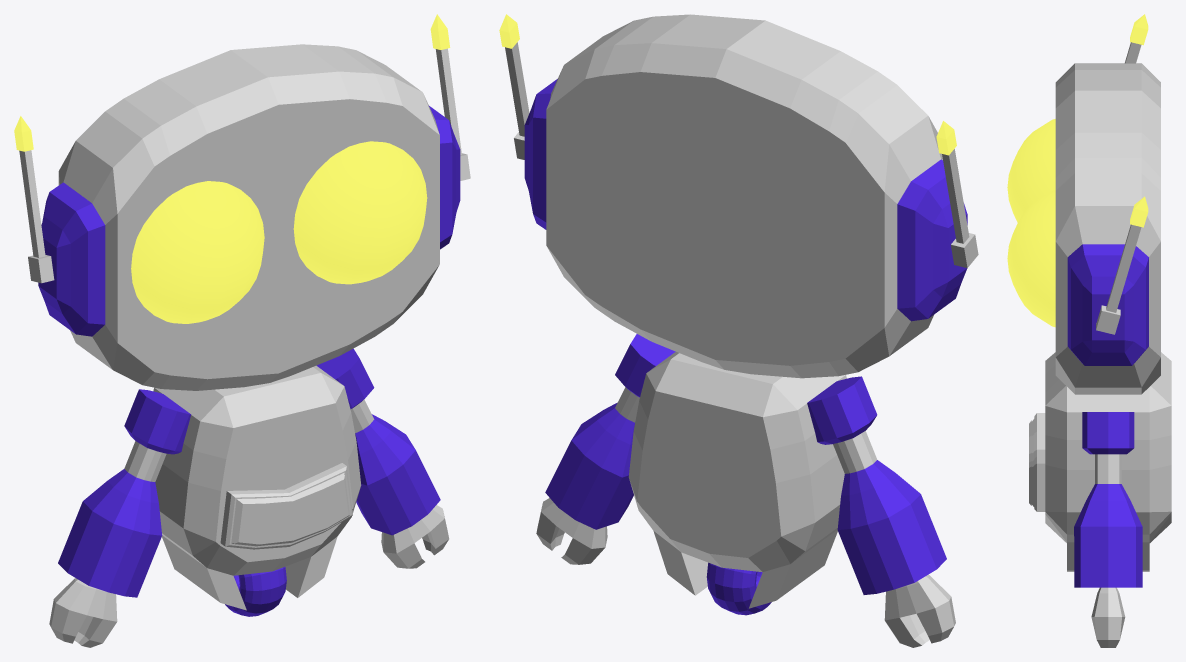
The model's file is robot.glb.
3 views of the same model, side by side, from view 1: azimuth 30°, elevation 25°; view 2: azimuth 150°, elevation 25°; view 3: azimuth 270°, elevation 25° (orthographic). The views are drawn at different scales.
Parts seen in each view (by area): view 1: Cube.002, Cube, Sphere, Cube.001, Torus; view 2: Cube.002, Cube, Cube.001, Torus; view 3: Cube.002, Cube, Cube.001, Sphere.
Part boxes in pixels (left/top/right/bottom): Cube.002: left=14, top=14, right=470, bottom=390; Cube: left=153, top=365, right=361, bottom=610; Sphere: left=131, top=141, right=427, bottom=323; Cube.001: left=49, top=348, right=449, bottom=647; Torus: left=225, top=567, right=286, bottom=616; Cube.002: left=499, top=14, right=978, bottom=378; Cube: left=628, top=352, right=846, bottom=608; Cube.001: left=536, top=334, right=955, bottom=647; Torus: left=706, top=562, right=771, bottom=615; Cube.002: left=1055, top=14, right=1160, bottom=394; Cube: left=1029, top=352, right=1171, bottom=571; Cube.001: left=1074, top=412, right=1142, bottom=647; Sphere: left=1007, top=119, right=1055, bottom=327.
Bounding box in the file's own units: 2.11 × 2.58 × 0.7792.
